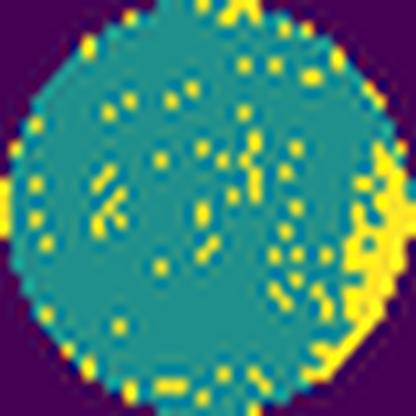Edge-Loc: (310, 137, 416, 384)
